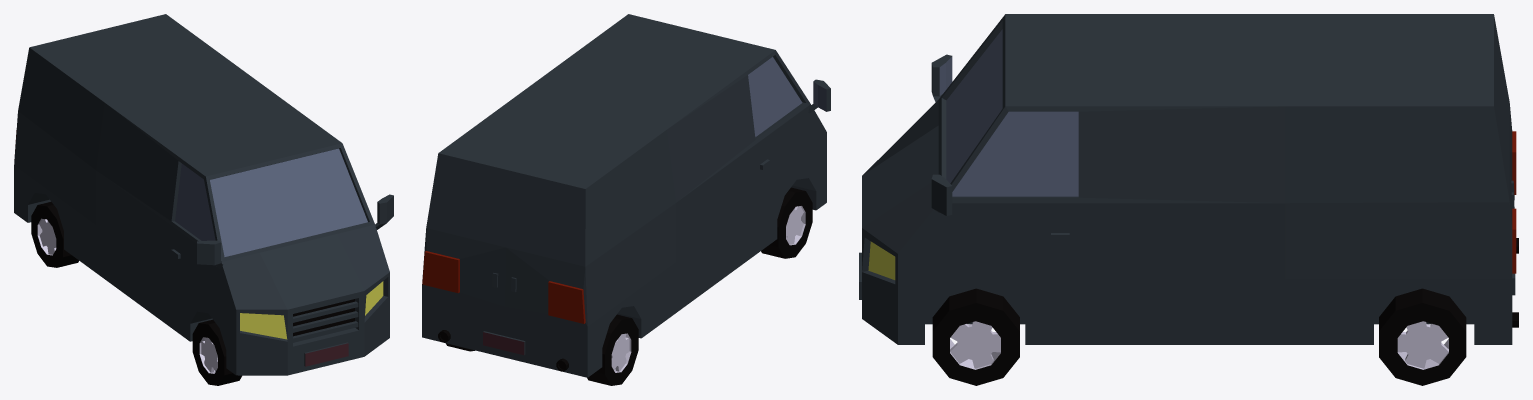
Rendered from van.fbx.
3 views of the same model, side by side, from view 1: azimuth 30°, elevation 25°; view 2: azimuth 150°, elevation 25°; view 3: azimuth 270°, elevation 25° (orthographic). The views are drawn at different scales.
Parts seen in each view (by area): view 1: Van, WheelFrontRight, WheelBackRight; view 2: Van, WheelBackRight, WheelFrontRight; view 3: Van, WheelFrontLeft, WheelBackLeft.
Boxes of the visible parts, left/top/right/bottom form: Van: left=14, top=14, right=393, bottom=375; WheelFrontRight: left=192, top=319, right=241, bottom=385; WheelBackRight: left=31, top=201, right=78, bottom=267; Van: left=422, top=14, right=830, bottom=377; WheelBackRight: left=587, top=314, right=638, bottom=385; WheelFrontRight: left=761, top=187, right=812, bottom=258; Van: left=859, top=14, right=1518, bottom=344; WheelFrontLeft: left=932, top=288, right=1019, bottom=385; WheelBackLeft: left=1379, top=288, right=1466, bottom=385.
Bounding box in the file's own units: 281 × 271 × 591.
